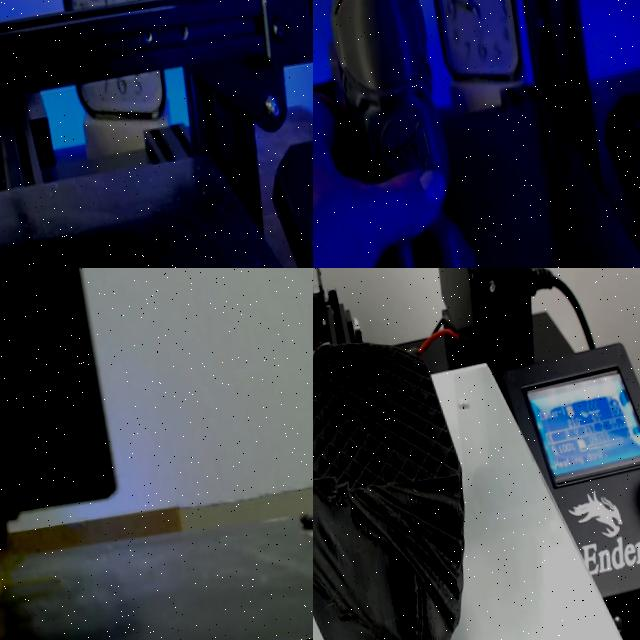spaghetti: (0, 512, 36, 618)
